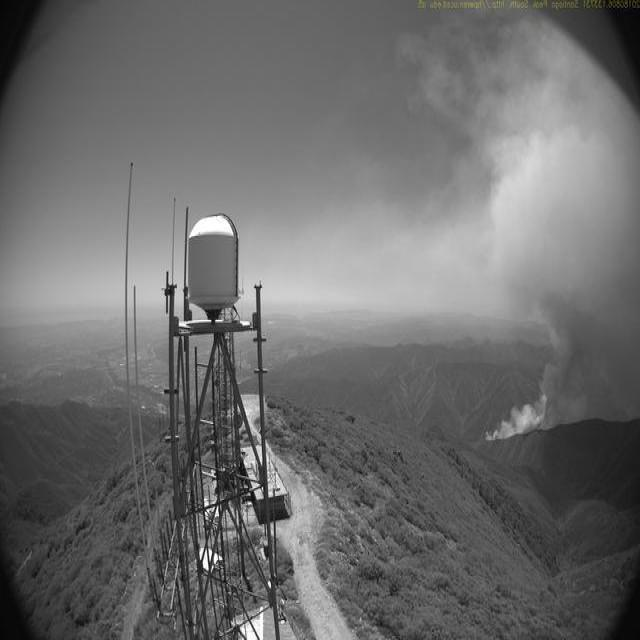Smoke: (483, 107, 636, 456)
